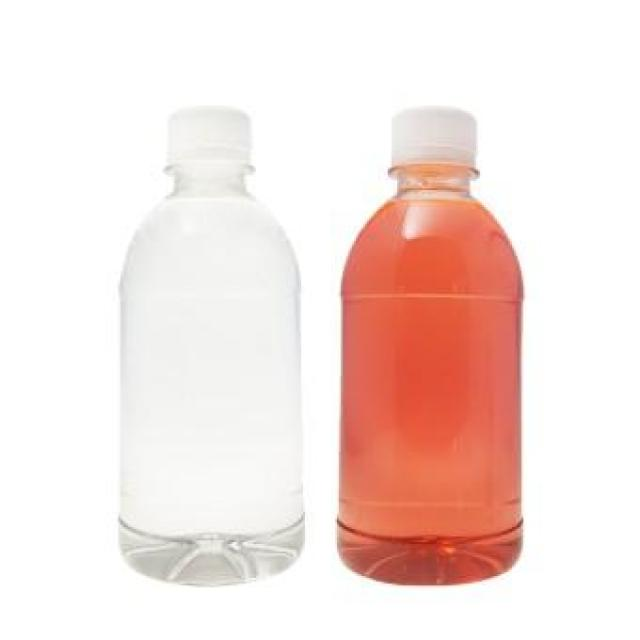bottle: (337, 106, 525, 584), (121, 103, 301, 588)
